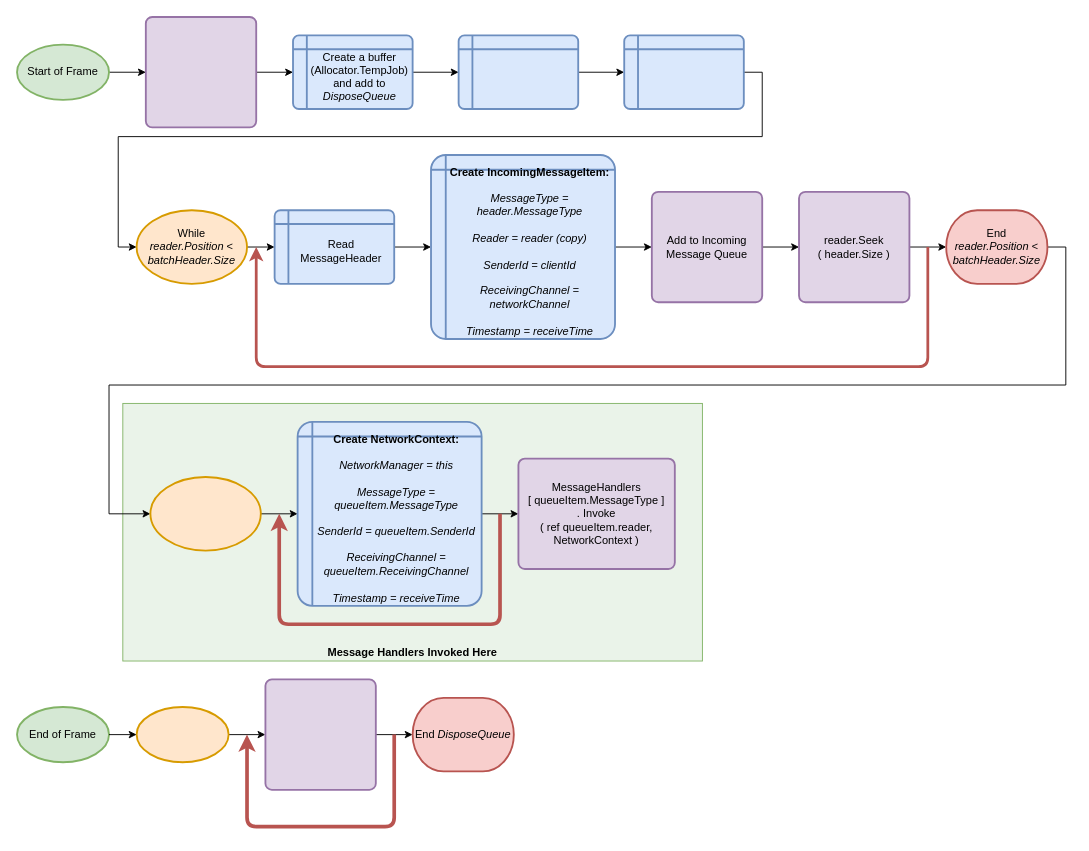
Some shapes in this 1089 by 851 pixel diagram are drawn without their labels. Each missing label, with the centre of its shape:
"buffer.Dispose()" goes at pixel 320 734.
"Create FastBufferReader with buffer" goes at pixel 518 71.
"Foreach buffer in DisposeQueue" goes at pixel 182 734.
"Foreach queuItem in Incoming Message Queue [ Timing.Start ]" goes at pixel 205 513.
"HandleIncomingData" goes at pixel 200 72.
"Read BatchHeader" goes at pixel 683 71.
